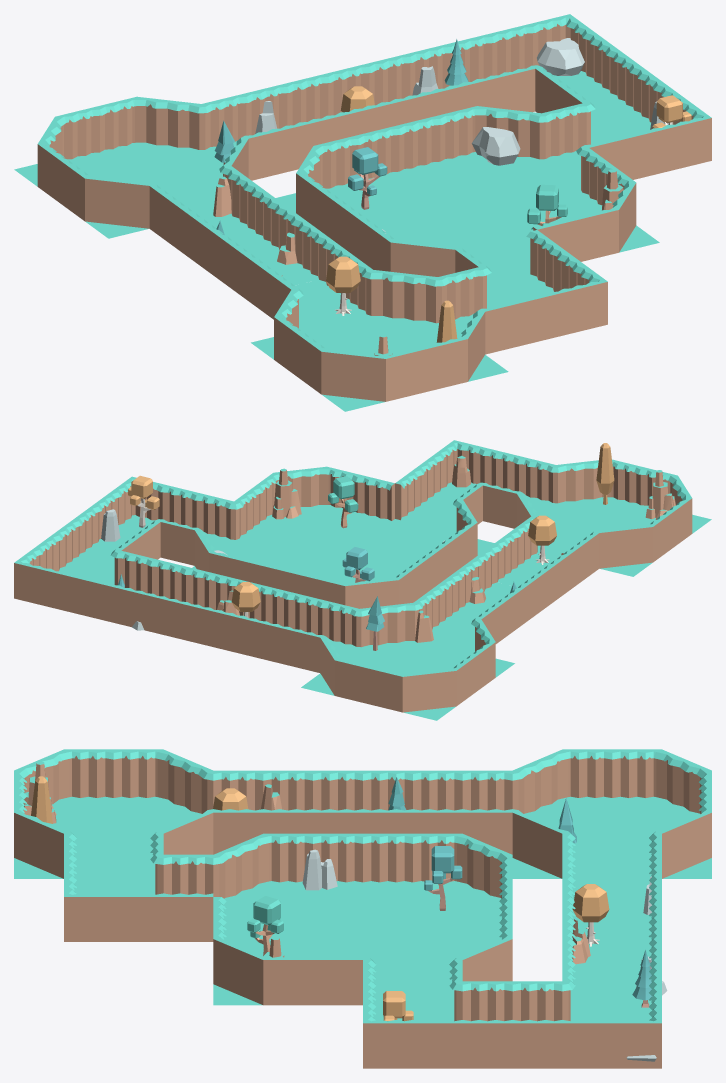
The model's file is StageDecorationDemo.fbx.
3 renders of one model, top to bottom at view 1: azimuth 30°, elevation 25°; view 2: azimuth 150°, elevation 25°; view 3: azimuth 270°, elevation 25°, orthographic. The views are drawn at different scales.
Visible parts, largest first — view 1: Area:cliff_topDiagonal_rock5, Area:cliff_topDiagonal_rock6, Area:cliff_topDiagonal_rock1, Area:cliff_topDiagonal_rock2, Area:cliff_topDiagonal_rock8, Area:cliff_cornerInnerTop_rock, Area:cliff_topDiagonal_rock10, Area:cliff_cornerInnerTop_rock2, Area:cliff_top_rock35, Area:cliff_top_rock36, Area:cliff_top_rock30, Area:cliff_top_rock43 (+105 smaller); view 2: Area:cliff_topDiagonal_rock, Area:cliff_topDiagonal_rock12, Area:cliff_topDiagonal_rock3, Area:cliff_topDiagonal_rock7, Area:cliff_cornerInnerTop_rock1, Area:cliff_topDiagonal_rock9, Area:cliff_top_rock27, Area:cliff_cornerInnerTop_rock, Area:cliff_topDiagonal_rock11, Area:cliff_top_rock53, Area:cliff_top_rock51, Area:cliff_top_rock52 (+104 smaller); view 3: Area:cliff_topDiagonal_rock11, Area:cliff_topDiagonal_rock2, Area:cliff_topDiagonal_rock12, Area:cliff_topDiagonal_rock10, Area:cliff_cornerInnerTop_rock2, Area:cliff_cornerInnerTop_rock, Area:cliff_topDiagonal_rock3, Area:cliff_topDiagonal_rock7, Area:cliff_cornerInnerTop_rock1, Area:cliff_topDiagonal_rock1, Area:cliff_top_rock61, Area:cliff_top_rock63 (+101 smaller).
Boxes of the visible parts, x1,y1,x2,y2 form: Area:cliff_topDiagonal_rock5: [362, 270, 443, 323]; Area:cliff_topDiagonal_rock6: [317, 348, 392, 401]; Area:cliff_topDiagonal_rock1: [130, 96, 207, 149]; Area:cliff_topDiagonal_rock2: [81, 175, 155, 228]; Area:cliff_topDiagonal_rock8: [471, 106, 547, 159]; Area:cliff_cornerInnerTop_rock: [564, 264, 607, 334]; Area:cliff_topDiagonal_rock10: [386, 239, 461, 276]; Area:cliff_cornerInnerTop_rock2: [667, 100, 711, 170]; Area:cliff_top_rock35: [481, 299, 526, 354]; Area:cliff_top_rock36: [522, 289, 567, 344]; Area:cliff_top_rock30: [396, 116, 442, 171]; Area:cliff_top_rock43: [245, 126, 289, 180]; Area:cliff_topDiagonal_rock: [397, 668, 459, 712]; Area:cliff_topDiagonal_rock12: [594, 524, 655, 568]; Area:cliff_topDiagonal_rock3: [354, 603, 421, 647]; Area:cliff_topDiagonal_rock7: [551, 459, 614, 503]; Area:cliff_cornerInnerTop_rock1: [14, 548, 50, 606]; Area:cliff_topDiagonal_rock9: [339, 577, 401, 608]; Area:cliff_top_rock27: [356, 475, 394, 520]; Area:cliff_cornerInnerTop_rock: [434, 440, 487, 490]; Area:cliff_topDiagonal_rock11: [270, 466, 331, 506]; Area:cliff_top_rock53: [184, 602, 220, 648]; Area:cliff_top_rock51: [252, 618, 288, 664]; Area:cliff_top_rock52: [218, 610, 254, 656]; Area:cliff_topDiagonal_rock11: [213, 935, 271, 1005]; Area:cliff_topDiagonal_rock2: [512, 749, 570, 813]; Area:cliff_topDiagonal_rock12: [155, 749, 213, 813]; Area:cliff_topDiagonal_rock10: [213, 833, 271, 898]; Area:cliff_cornerInnerTop_rock2: [363, 1002, 412, 1068]; Area:cliff_cornerInnerTop_rock: [64, 876, 113, 941]; Area:cliff_topDiagonal_rock3: [512, 809, 572, 878]; Area:cliff_topDiagonal_rock7: [14, 809, 76, 878]; Area:cliff_cornerInnerTop_rock1: [612, 1002, 661, 1068]; Area:cliff_topDiagonal_rock1: [649, 809, 711, 878]; Area:cliff_top_rock61: [562, 1020, 612, 1068]; Area:cliff_top_rock63: [462, 1020, 512, 1068].
Size of the model in its own units: 1303 by 169 by 1400.
